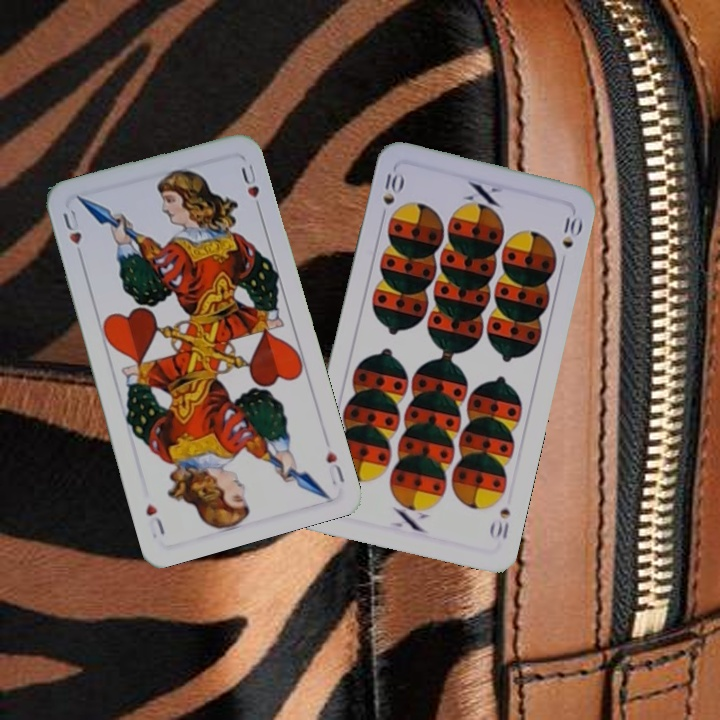HU: (59, 205, 86, 262), (322, 446, 347, 489)
S10: (378, 165, 406, 223), (486, 504, 513, 542)
